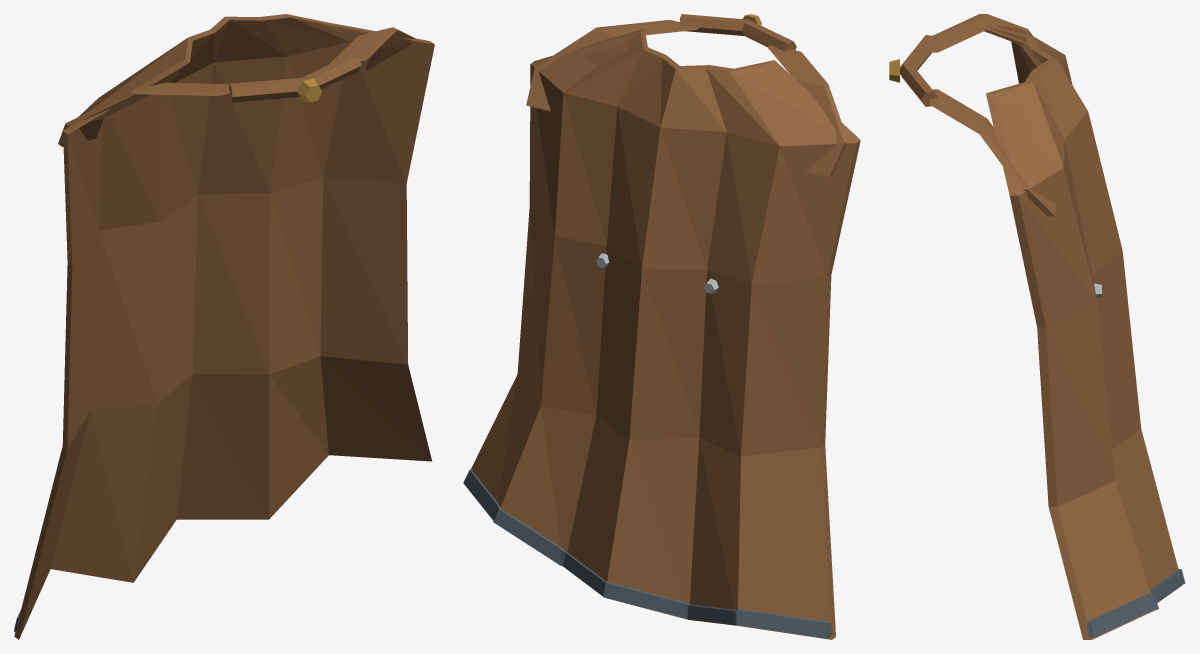
File: studded_back-male.glb
The picture shows the model from 3 angles, left to right: view 1: azimuth 30°, elevation 25°; view 2: azimuth 150°, elevation 25°; view 3: azimuth 270°, elevation 25°; orthographic projection. The views are drawn at different scales.
Visible parts, largest first — view 1: studded draped back mantle, Mantle neck fastening, Mantle shoulder fall -1, Mantle shoulder fall 1; view 2: studded draped back mantle, Mantle weighted bound hem, Mantle shoulder fall -1, Mantle shoulder fall 1, Mantle neck fastening; view 3: studded draped back mantle, Mantle shoulder fall 1, Mantle weighted bound hem, Mantle shoulder fall -1, Mantle neck fastening.
Part boxes in pixels (x1,y1,x2,y2): studded draped back mantle: (14, 14, 434, 639); Mantle neck fastening: (229, 54, 361, 102); Mantle shoulder fall -1: (58, 82, 230, 146); Mantle shoulder fall 1: (329, 27, 414, 70); studded draped back mantle: (465, 28, 860, 639); Mantle weighted bound hem: (463, 469, 832, 638); Mantle shoulder fall -1: (767, 45, 847, 177); Mantle shoulder fall 1: (526, 20, 699, 111); Mantle neck fastening: (679, 14, 796, 51); studded draped back mantle: (985, 26, 1182, 639); Mantle shoulder fall 1: (930, 89, 1055, 216); Mantle weighted bound hem: (1086, 568, 1185, 637); Mantle shoulder fall -1: (931, 14, 1040, 66); Mantle neck fastening: (900, 35, 938, 106).
Size of the model in its own units: 2.55 by 3.44 by 1.67.
